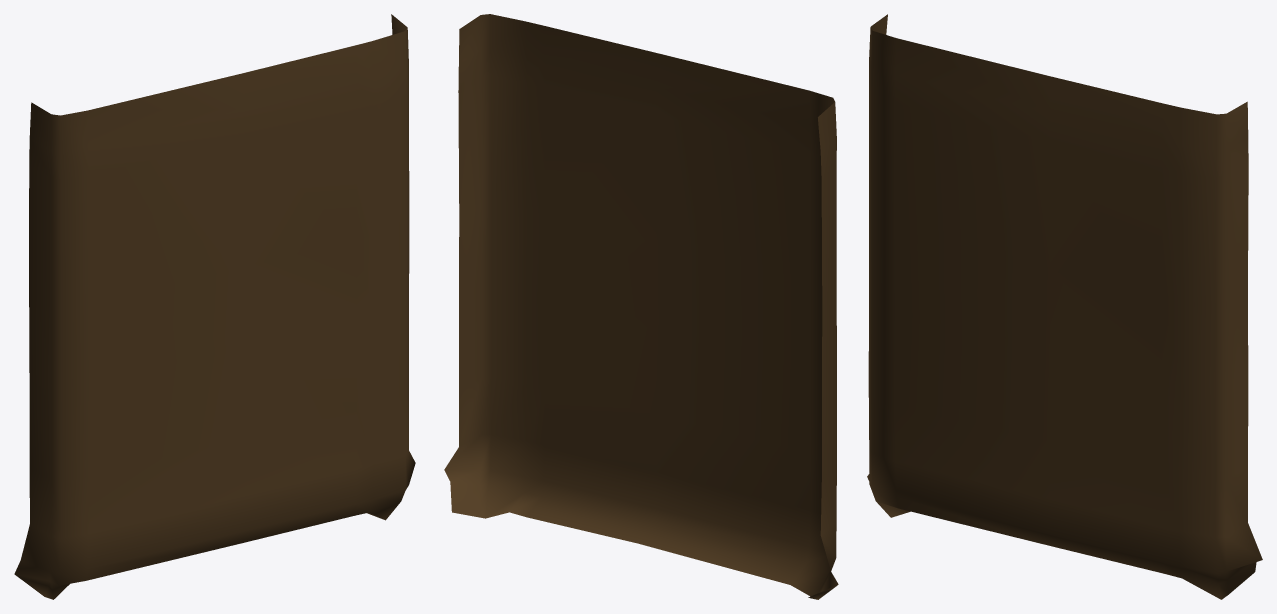
File: BedsheetMade_15BBedsheetMade_2_3.obj
3 views of the same model, side by side, from view 1: azimuth 30°, elevation 25°; view 2: azimuth 150°, elevation 25°; view 3: azimuth 330°, elevation 25° (orthographic).
Parts seen in each view (by area): view 1: BedsheetMade_2; view 2: BedsheetMade_2; view 3: BedsheetMade_2.
Part boxes in pixels (x1=…): BedsheetMade_2: x1=14, y1=14, x2=415, y2=599; BedsheetMade_2: x1=444, y1=14, x2=838, y2=599; BedsheetMade_2: x1=867, y1=14, x2=1262, y2=599.
Size of the model in its own units: 1.91 by 2.27 by 0.2908.
